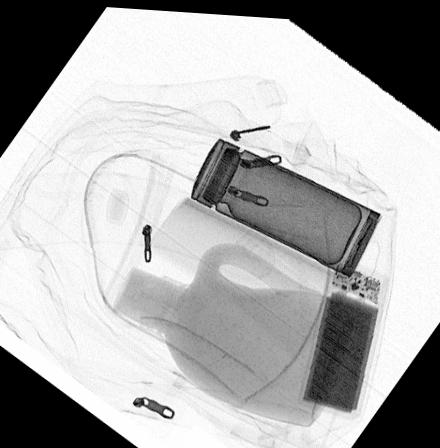Powerbank: (296, 257, 388, 412)
